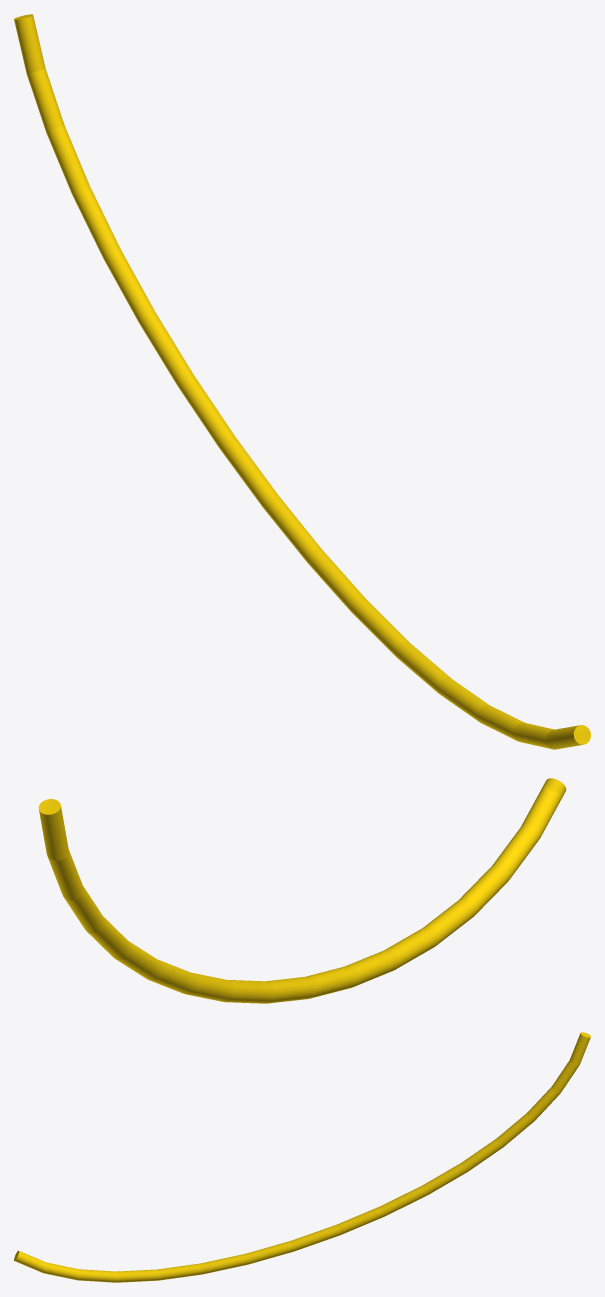
The model's file is Event_421115418_track_16.fbx.
3 views of the same model, one above another, from view 1: azimuth 30°, elevation 25°; view 2: azimuth 150°, elevation 25°; view 3: azimuth 270°, elevation 25° (orthographic). The views are drawn at different scales.
Parts seen in each view (by area): view 1: Model; view 2: Model; view 3: Model.
Boxes of the visible parts, x1,y1,x2,y2 form: Model: (14,14,590,749); Model: (38,778,566,1003); Model: (14,1032,590,1282).
Bounding box in the file's own units: 0.1695 × 0.9276 × 2.05.
